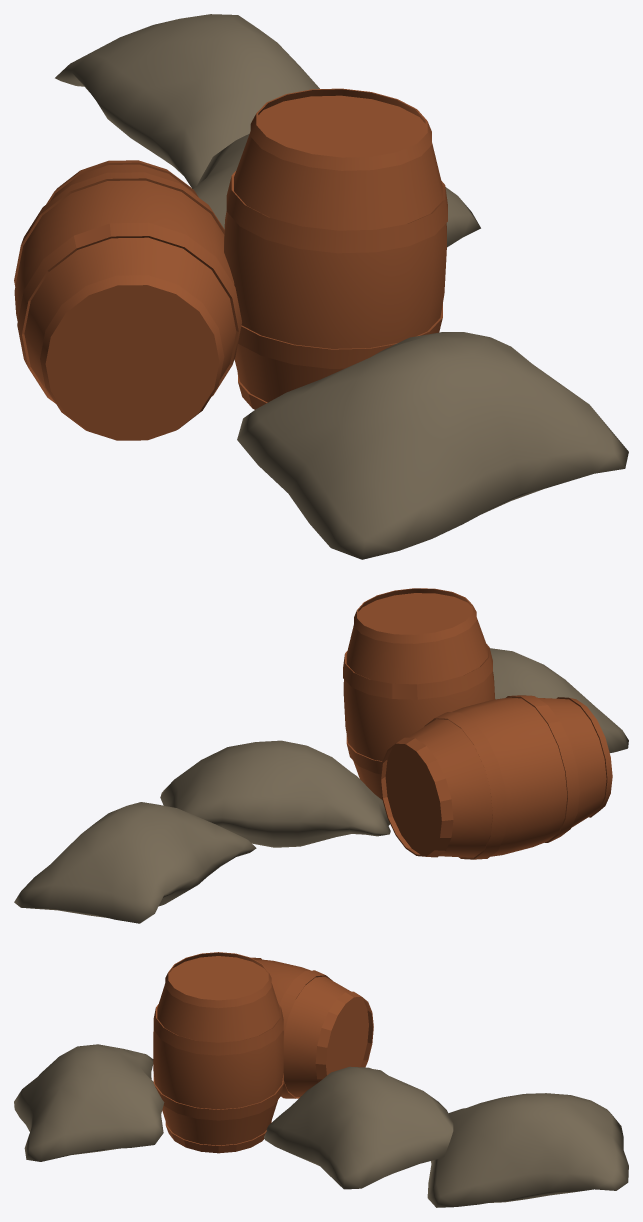
The model's file is mutongdui3.FBX.
3 renders of one model, top to bottom at view 1: azimuth 30°, elevation 25°; view 2: azimuth 150°, elevation 25°; view 3: azimuth 270°, elevation 25°, orthographic. The views are drawn at different scales.
Parts seen in each view (by area): view 1: c11, c12, c10, c08, c09; view 2: c10, c11, c08, c09, c12; view 3: c11, c08, c09, c12, c10.
Part boxes in pixels (x1,y1,x2,y2): c11: (224, 88, 447, 409); c12: (237, 332, 628, 559); c10: (14, 160, 241, 440); c08: (55, 14, 319, 188); c09: (193, 134, 480, 247); c10: (380, 695, 612, 859); c11: (343, 588, 494, 799); c08: (14, 802, 256, 923); c09: (160, 740, 390, 847); c12: (490, 648, 628, 752); c11: (153, 952, 283, 1153); c08: (427, 1093, 628, 1207); c09: (264, 1066, 453, 1189); c12: (14, 1044, 164, 1161); c10: (251, 957, 373, 1098).
Bounding box in the file's own units: 0.9835 × 0.4949 × 1.63.
